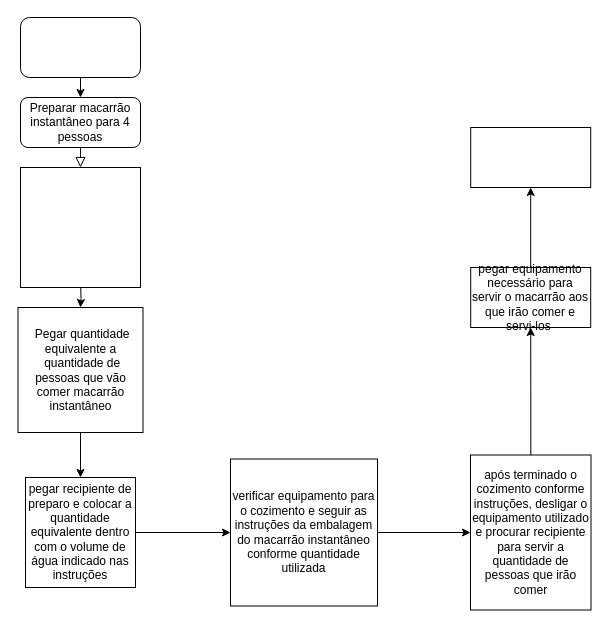
Image size: 608x628. Some labels were removed from this diagram. Each missing label, with the centre of its shape:
fim: the point at 530,157
Início: the point at 80,47
Verificar quantas pessoas vão comer: the point at 80,227
